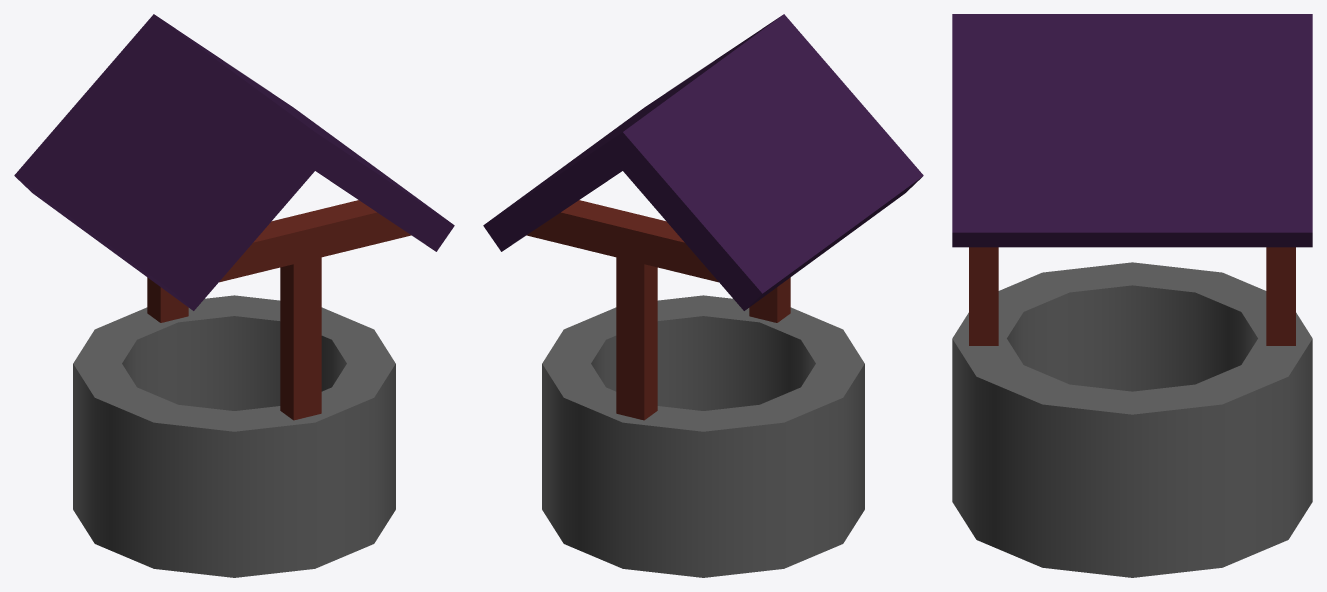
The model's file is well.glb.
3 views of the same model, side by side, from view 1: azimuth 30°, elevation 25°; view 2: azimuth 150°, elevation 25°; view 3: azimuth 270°, elevation 25° (orthographic). The views are drawn at different scales.
Parts seen in each view (by area): view 1: Cylinder_col, Plane, Cube, Cube.001; view 2: Cylinder_col, Plane, Cube, Cube.001; view 3: Cylinder_col, Plane, Cube.
Part boxes in pixels (x1,y1,x2,y2): Cylinder_col: [73, 295, 395, 577]; Plane: [14, 14, 454, 310]; Cube: [147, 257, 321, 420]; Cube.001: [219, 200, 411, 282]; Cylinder_col: [542, 295, 864, 577]; Plane: [483, 14, 923, 310]; Cube: [616, 257, 790, 420]; Cube.001: [526, 200, 718, 282]; Cylinder_col: [952, 262, 1312, 577]; Plane: [952, 14, 1312, 247]; Cube: [969, 247, 1295, 345].
Size of what is drawn, in the model's own units: 2 by 2.99 by 2.
